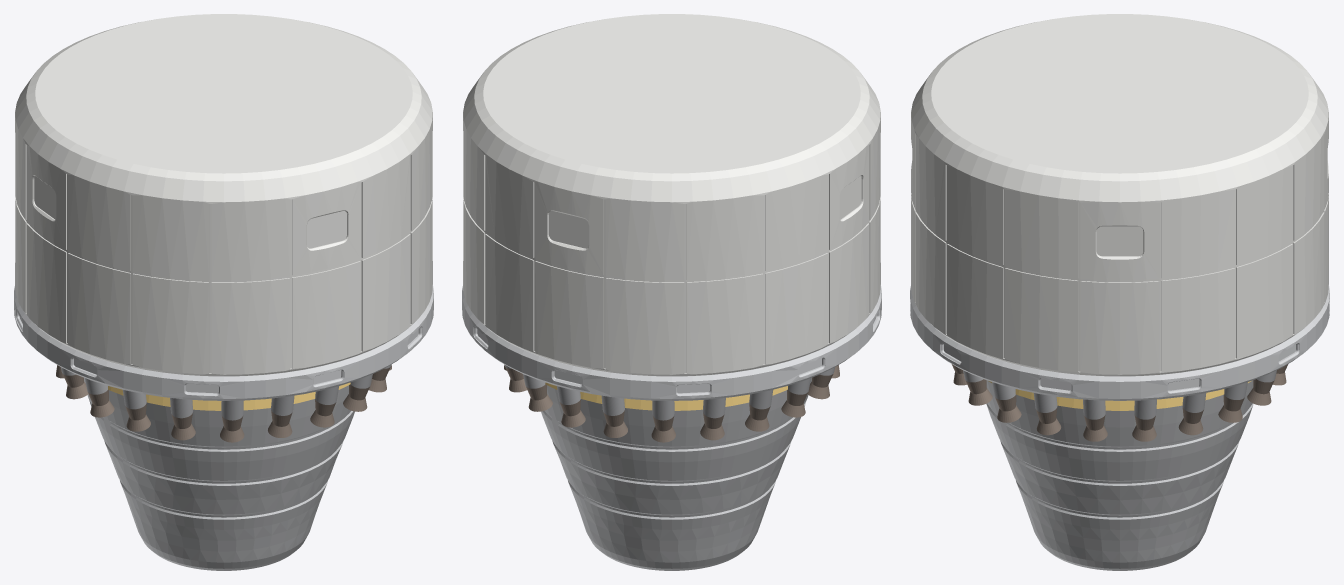
Rendered from ax_prop_03_aerospike_booster.glb.
The picture shows the model from 3 angles, left to right: view 1: azimuth 30°, elevation 25°; view 2: azimuth 150°, elevation 25°; view 3: azimuth 270°, elevation 25°; orthographic projection.
Parts seen in each view (by area): view 1: aeroshell, plug, base_skirt, chamber_throats, chambers, mli_collar; view 2: aeroshell, plug, base_skirt, chamber_throats, chambers, mli_collar; view 3: aeroshell, plug, base_skirt, chamber_throats, chambers, mli_collar.
Part boxes in pixels (x1,y1,x2,y2): aeroshell: (15,14,432,376); plug: (84,378,354,570); base_skirt: (14,285,433,400); chamber_throats: (56,365,391,442); chambers: (60,364,391,420); mli_collar: (108,382,350,410); aeroshell: (463,14,880,376); plug: (541,378,811,570); base_skirt: (462,285,881,400); chamber_throats: (504,365,839,442); chambers: (504,364,835,420); mli_collar: (545,382,787,410); aeroshell: (911,14,1328,376); plug: (986,380,1253,570); base_skirt: (910,285,1329,400); chamber_throats: (951,364,1288,441); chambers: (963,370,1276,419); mli_collar: (988,381,1251,410).
Size of the model in its own units: 3.77 by 4.4 by 3.77.
